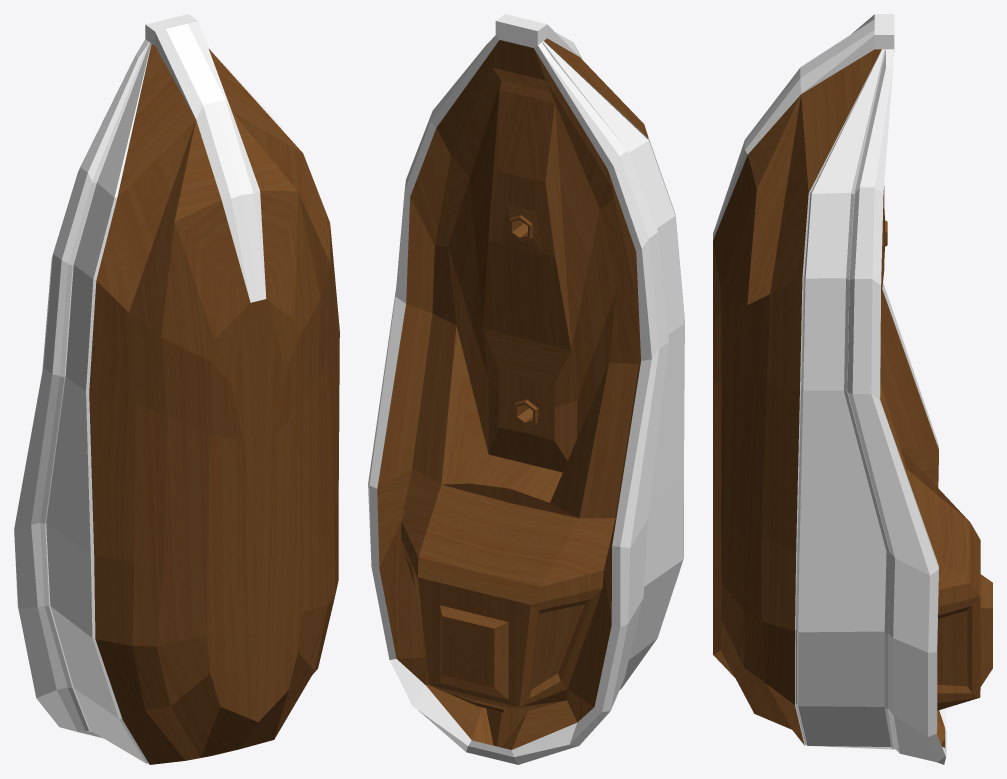
File: body_5.fbx
The picture shows the model from 3 angles, left to right: view 1: azimuth 30°, elevation 25°; view 2: azimuth 150°, elevation 25°; view 3: azimuth 270°, elevation 25°; orthographic projection. The views are drawn at different scales.
Parts seen in each view (by area): view 1: Cube.045; view 2: Cube.045; view 3: Cube.045.
Boxes of the visible parts, x1=… form: Cube.045: x1=14, y1=14, x2=339, y2=764; Cube.045: x1=368, y1=14, x2=684, y2=764; Cube.045: x1=713, y1=14, x2=992, y2=764.
Bounding box in the file's own units: 166 × 430 × 150.
